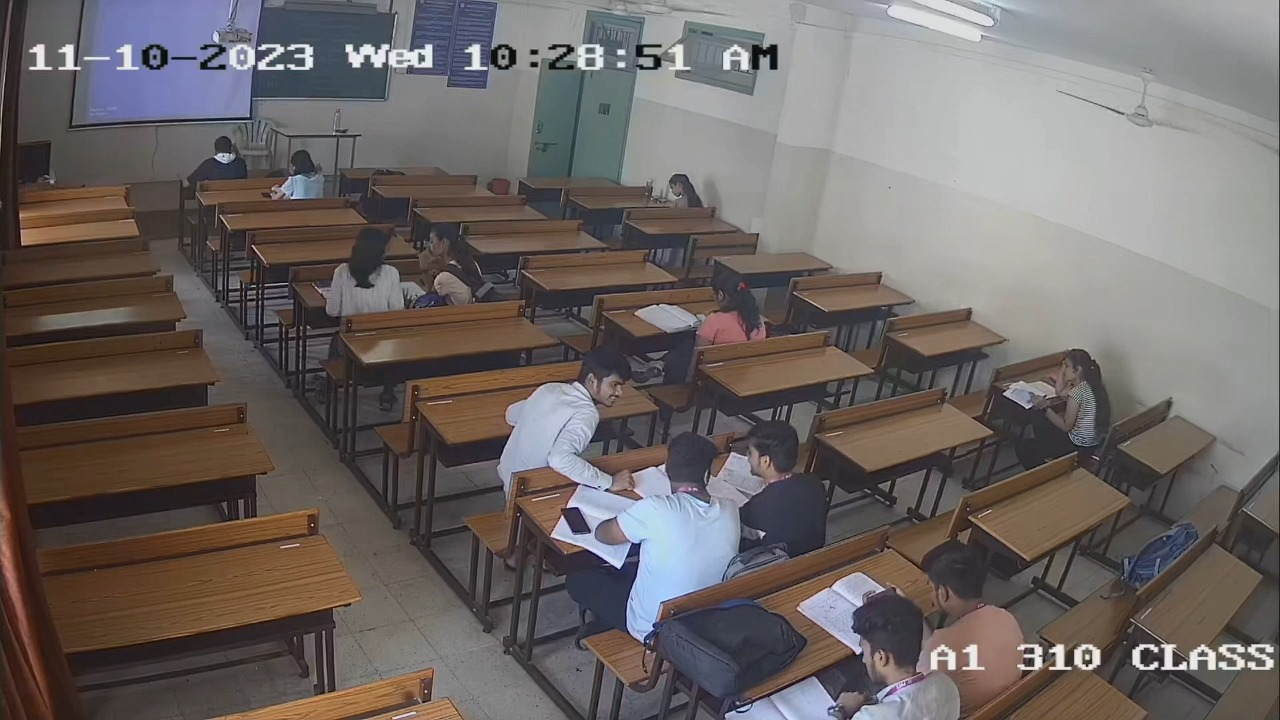cell-phones: (561, 505, 592, 534), (652, 194, 673, 205), (259, 191, 273, 199)
person: (584, 430, 739, 616), (282, 151, 325, 196), (665, 172, 704, 207)
